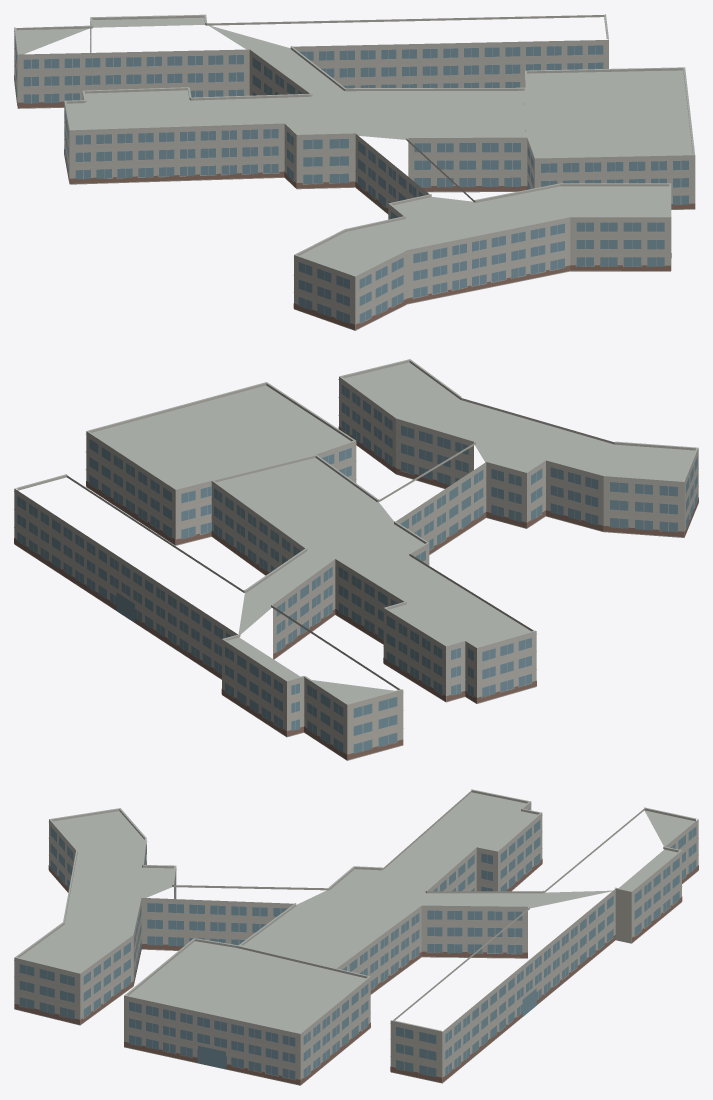
Rendered from public-a9990a75-a2eb-4d9f-92eb-522de574e9ad.glb.
The picture shows the model from 3 angles, top to bottom: view 1: azimuth 30°, elevation 25°; view 2: azimuth 150°, elevation 25°; view 3: azimuth 270°, elevation 25°; orthographic projection. The views are drawn at different scales.
Parts seen in each view (by area): view 1: public-a9990a75-a2eb-4d9f-92eb-522de574e9ad; view 2: public-a9990a75-a2eb-4d9f-92eb-522de574e9ad; view 3: public-a9990a75-a2eb-4d9f-92eb-522de574e9ad.
Boxes of the visible parts, left/top/right/bottom form: public-a9990a75-a2eb-4d9f-92eb-522de574e9ad: left=14, top=14, right=695, bottom=330; public-a9990a75-a2eb-4d9f-92eb-522de574e9ad: left=14, top=359, right=698, bottom=760; public-a9990a75-a2eb-4d9f-92eb-522de574e9ad: left=14, top=789, right=698, bottom=1085.
Size of the model in its own units: 92.85 by 9.15 by 110.
